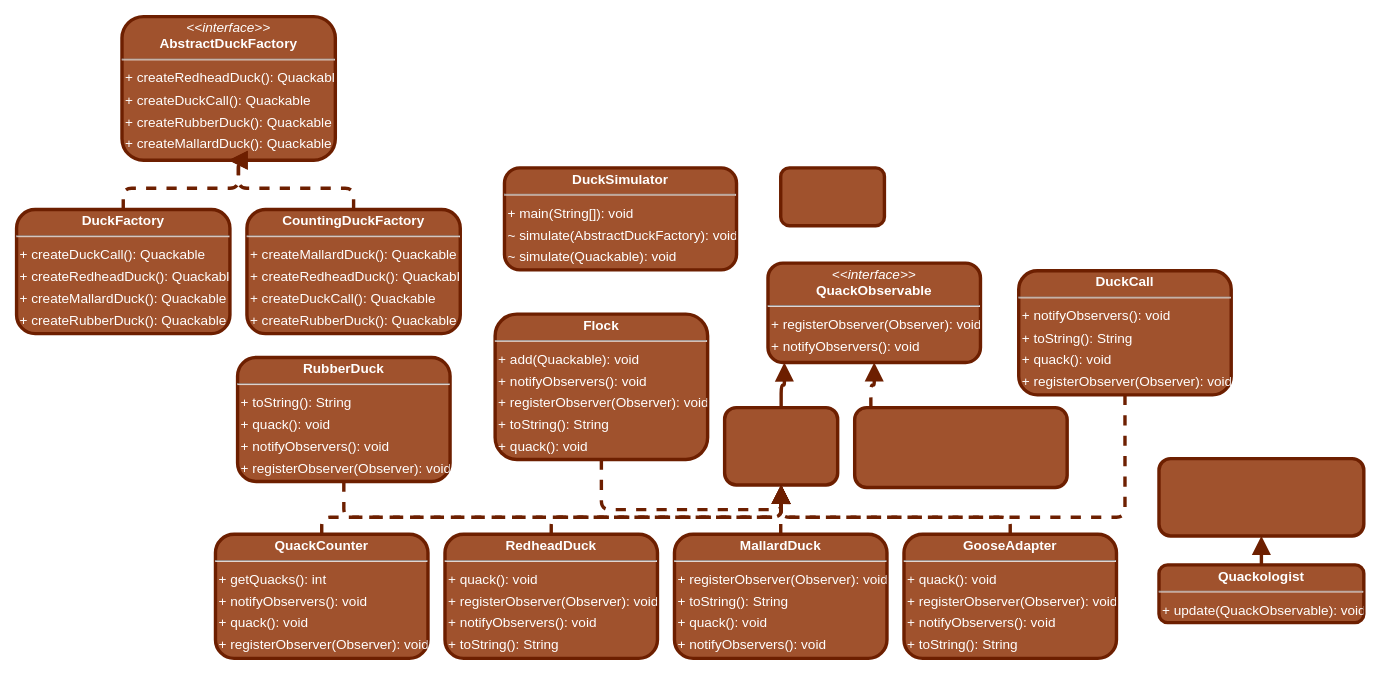
This 1380x674 diagram has some shape labels left out. The shapes that lost their labels are listed below. From the top down, each one's box as (x1, y1, x2, y2) in pixels, then its label:
(779, 166, 886, 227): Goose + honk(): void
(722, 405, 839, 486): <<interface>> Quackable + quack(): void
(853, 405, 1068, 489): Observable + notifyObservers(): void + registerObserver(Observer): void
(1157, 456, 1365, 537): <<interface>> Observer + update(QuackObservable): void
